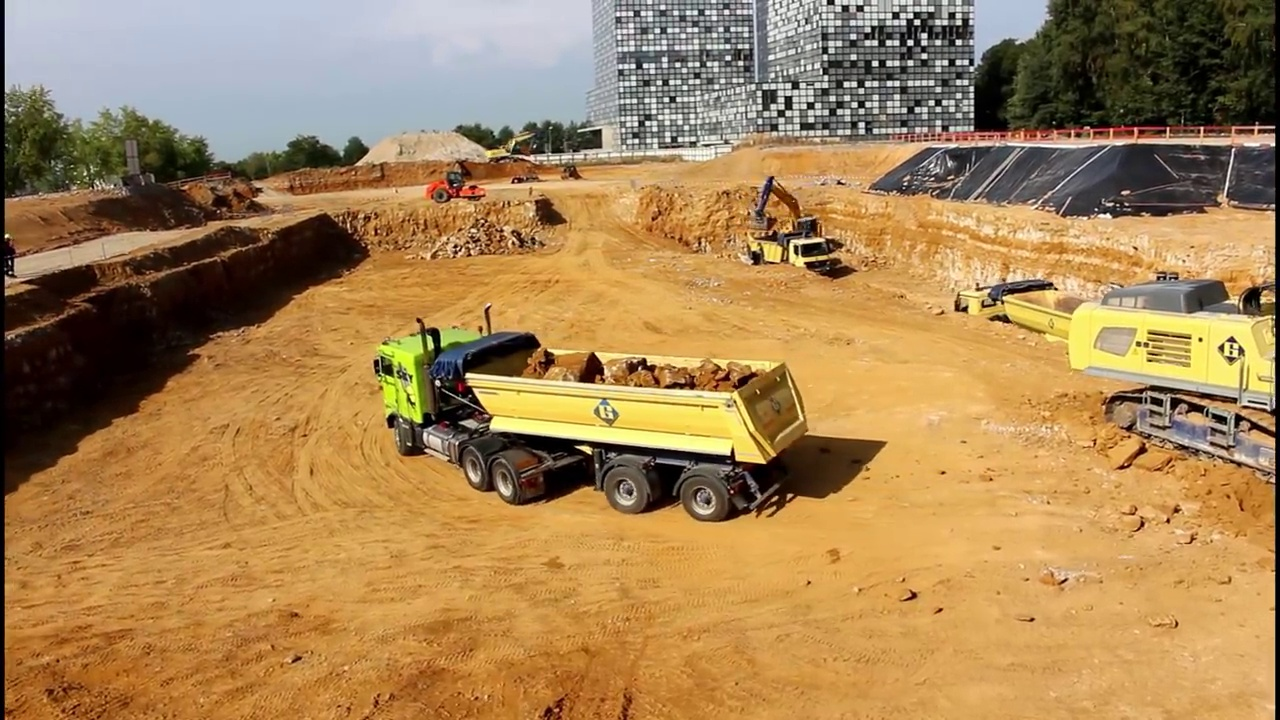compactor: (422, 169, 488, 206)
excavator: (1067, 264, 1280, 476), (744, 168, 826, 261), (482, 127, 544, 172)
truck: (364, 298, 817, 528), (950, 271, 1133, 376), (746, 227, 834, 288)
